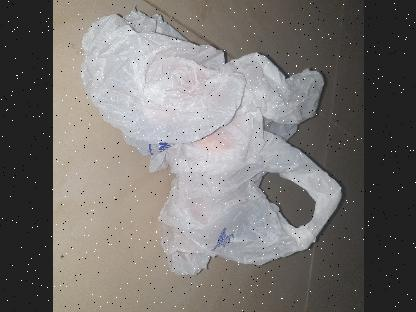Others: (74, 1, 348, 280)
